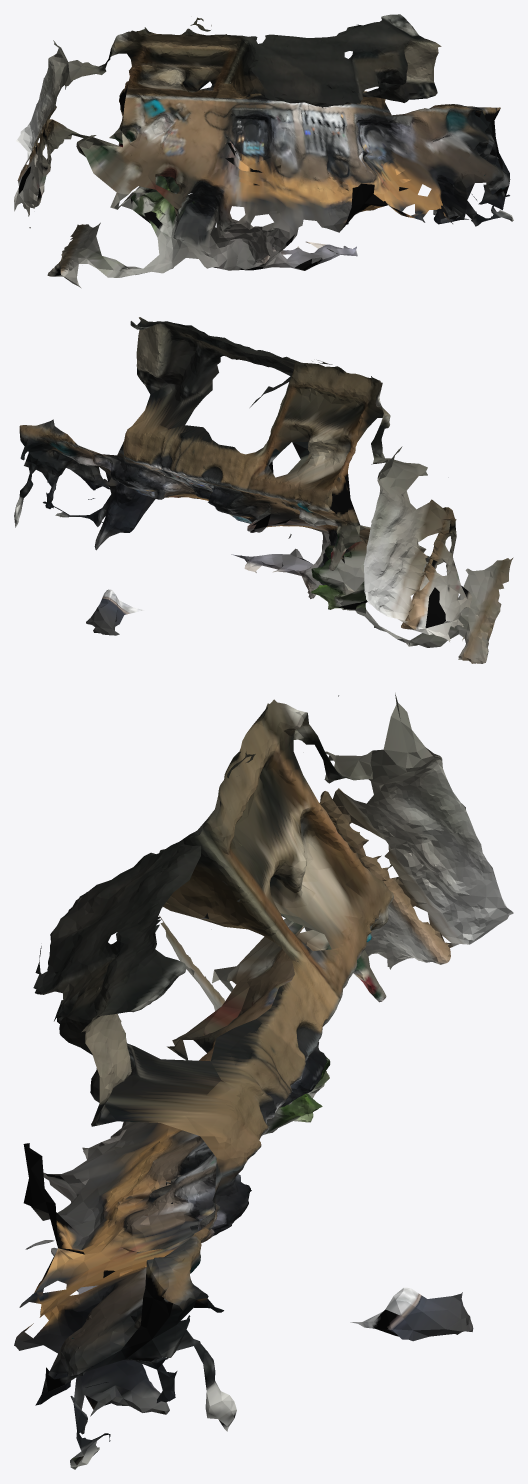
File: texturedMesh.obj
3 renders of one model, top to bottom at view 1: azimuth 30°, elevation 25°; view 2: azimuth 150°, elevation 25°; view 3: azimuth 270°, elevation 25°, orthographic. The views are drawn at different scales.
Parts seen in each view (by area): view 1: TexturedMesh; view 2: TexturedMesh; view 3: TexturedMesh.
Boxes of the visible parts, x1=… form: TexturedMesh: x1=14, y1=14, x2=513, y2=288; TexturedMesh: x1=14, y1=317, x2=513, y2=663; TexturedMesh: x1=14, y1=693, x2=513, y2=1469.
Size of the model in its own units: 6.34 by 3.35 by 3.28.
Materials: 1 (1 with a texture image).
